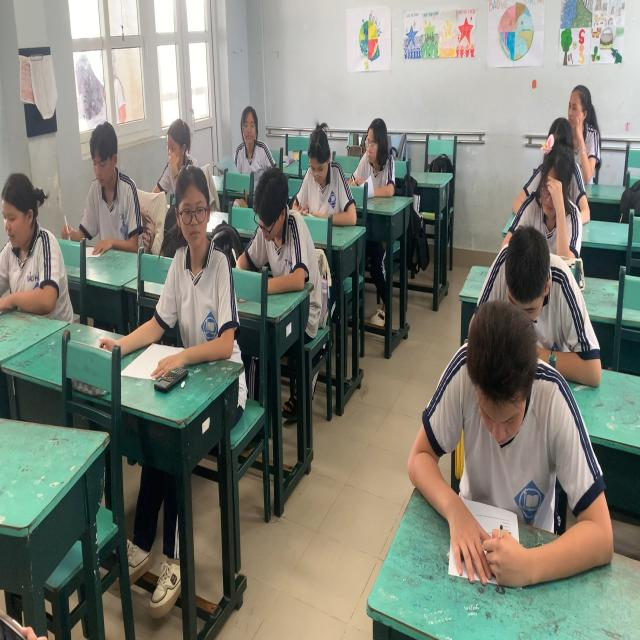not_cheating: (426, 312, 596, 589), (0, 167, 83, 319), (167, 180, 238, 354), (76, 119, 152, 264), (250, 167, 320, 280), (530, 105, 573, 239), (498, 236, 550, 333), (349, 118, 400, 202), (296, 118, 342, 204), (221, 102, 273, 174), (566, 87, 602, 188), (155, 102, 202, 178)
